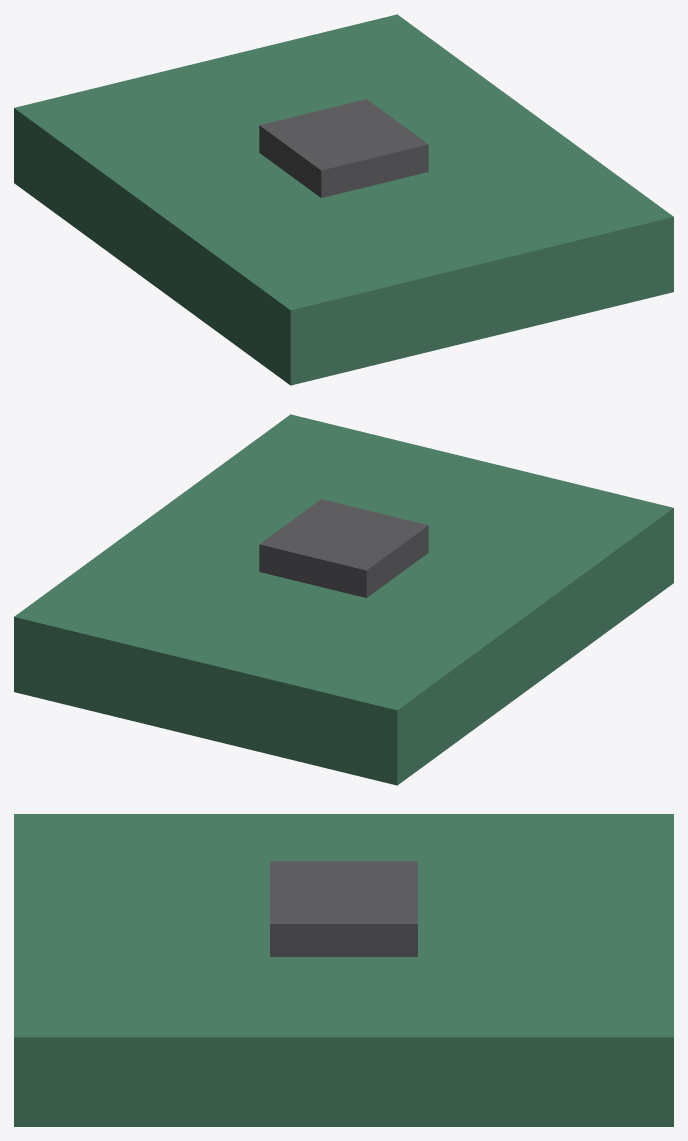
The model's file is drv8833.glb.
The picture shows the model from 3 angles, top to bottom: view 1: azimuth 30°, elevation 25°; view 2: azimuth 150°, elevation 25°; view 3: azimuth 270°, elevation 25°; orthographic projection. The views are drawn at different scales.
Visible parts, largest first — view 1: drv8833-pcb, drv8833-ic; view 2: drv8833-pcb, drv8833-ic; view 3: drv8833-pcb, drv8833-ic.
Part boxes in pixels (box(x1,y1,x2,y2)): drv8833-pcb: box(14, 14, 673, 385); drv8833-ic: box(259, 99, 428, 197); drv8833-pcb: box(14, 414, 673, 785); drv8833-ic: box(259, 499, 428, 597); drv8833-pcb: box(14, 814, 673, 1126); drv8833-ic: box(270, 861, 417, 956).
Size of the model in its own units: 0.016 by 0.0041 by 0.02.
